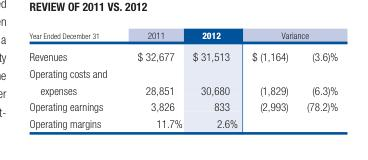table: (28, 29, 337, 129)
table column: (28, 29, 121, 129), (121, 29, 186, 129), (186, 29, 244, 129), (244, 29, 296, 129), (296, 29, 337, 129)
table column header: (28, 29, 337, 64)
table row: (28, 64, 337, 98), (28, 44, 337, 64), (28, 98, 337, 114), (28, 29, 337, 44), (28, 114, 337, 129)
table spanning cell: (28, 29, 121, 64), (121, 29, 186, 64), (186, 29, 244, 64), (244, 29, 337, 44)
